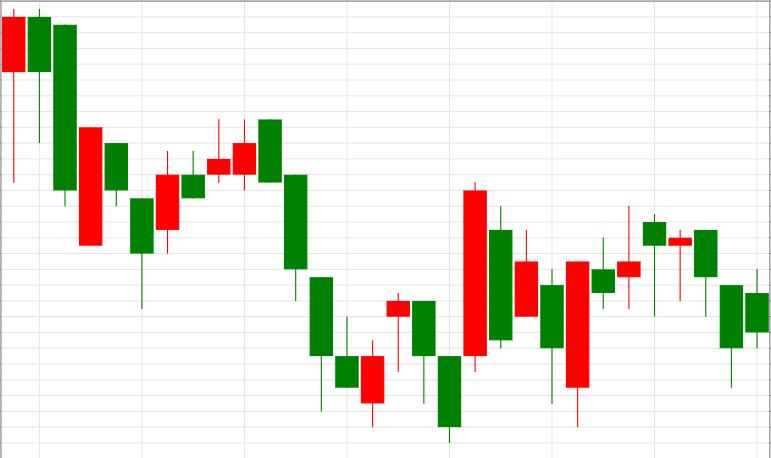inverse_hammer_rise: (258, 119, 359, 412)
